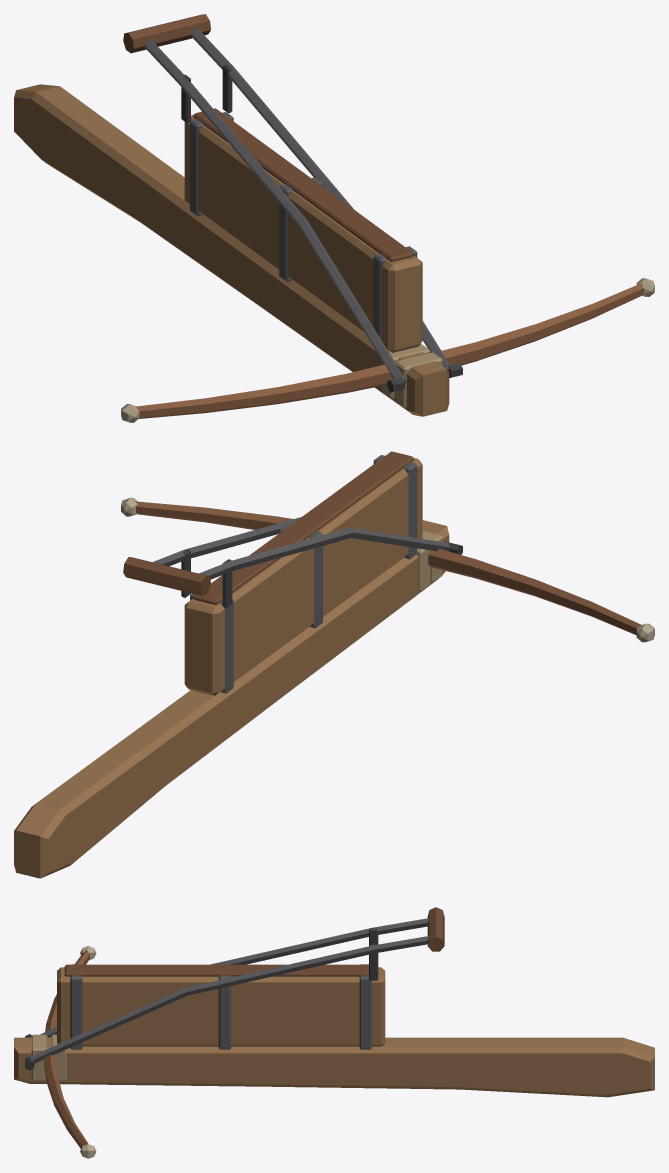
File: repeater.glb
3 renders of one model, top to bottom at view 1: azimuth 30°, elevation 25°; view 2: azimuth 150°, elevation 25°; view 3: azimuth 270°, elevation 25°, orthographic. The views are drawn at different scales.
Parts seen in each view (by area): view 1: repeater; view 2: repeater; view 3: repeater.
Boxes of the visible parts, x1=… form: repeater: x1=14, y1=14, x2=654, y2=422; repeater: x1=14, y1=451, x2=654, y2=878; repeater: x1=14, y1=907, x2=654, y2=1158.
Bounding box in the file's own units: 0.6182 × 0.241 × 0.82.
